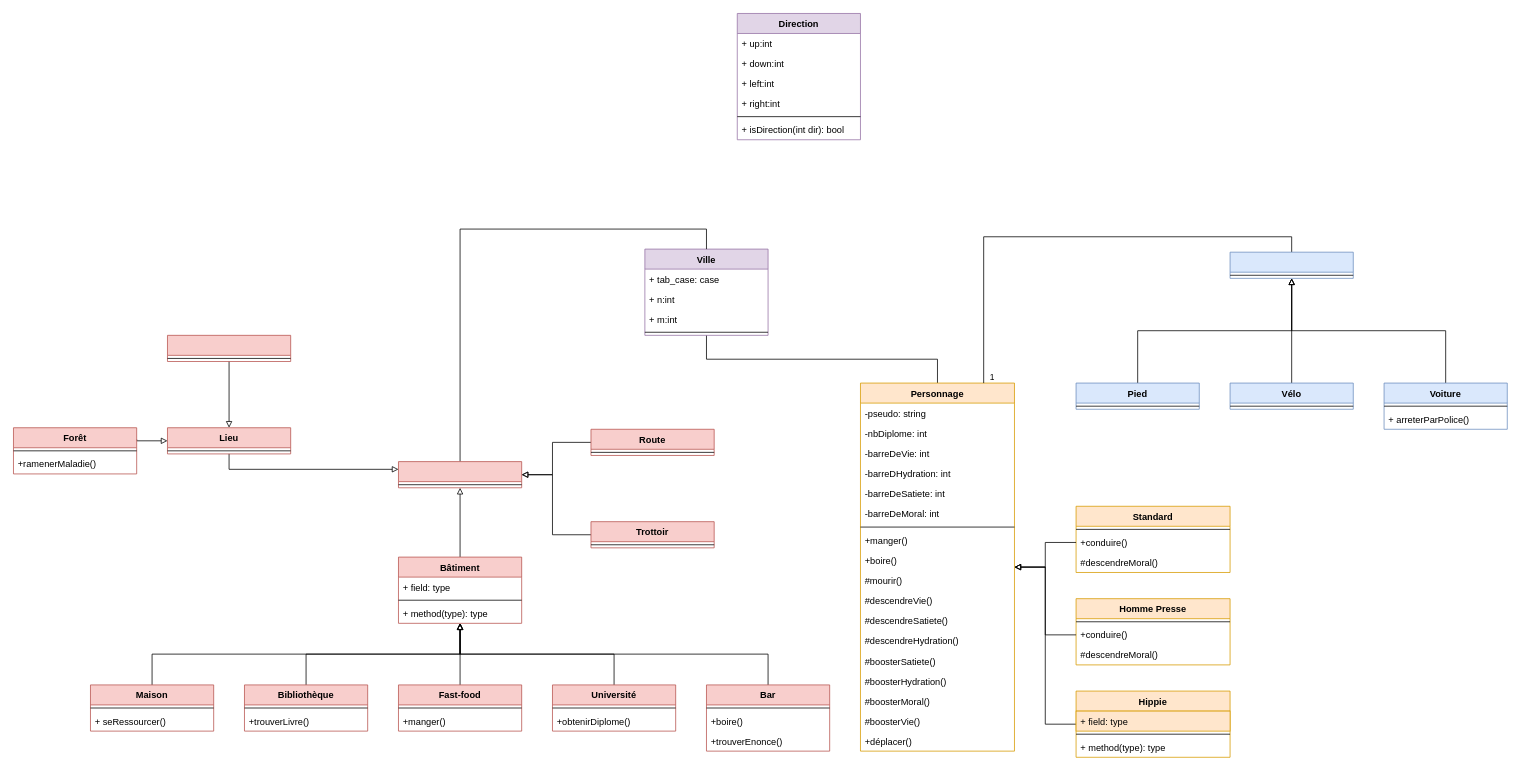
This 1521x773 diagram has some shape labels left out. The shapes that lost their labels are listed below. From the top down, each one's centre as x and y in pixels, then its label:
the point at 1291,264: Véhicule
the point at 229,348: Etendu d'eau
the point at 460,474: Case
